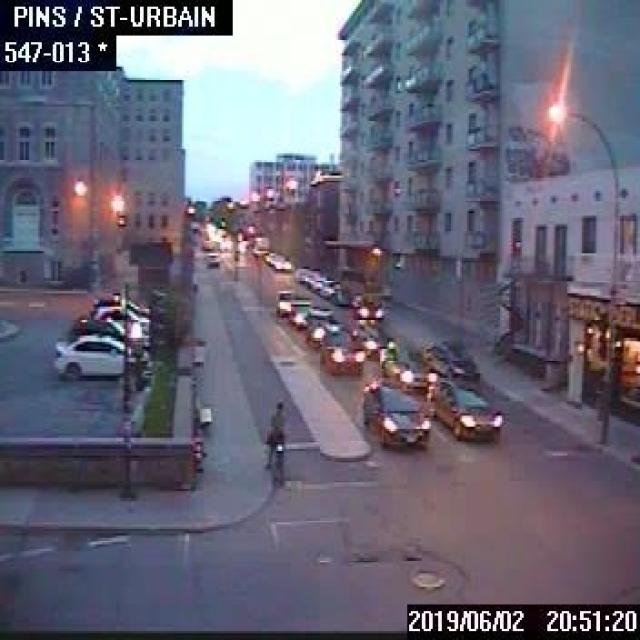cyclist: (264, 400, 286, 482)
vehicle: (361, 376, 430, 446), (52, 332, 148, 381), (430, 377, 499, 438), (378, 339, 436, 388), (340, 318, 395, 356), (424, 338, 476, 378), (68, 317, 136, 347), (318, 328, 363, 372), (87, 304, 148, 331), (90, 294, 148, 318), (302, 307, 336, 343), (349, 292, 383, 320), (288, 298, 313, 329), (274, 288, 298, 315), (318, 278, 337, 296), (273, 256, 290, 268), (294, 266, 308, 280), (309, 276, 324, 289), (303, 271, 317, 284), (206, 250, 218, 264)
